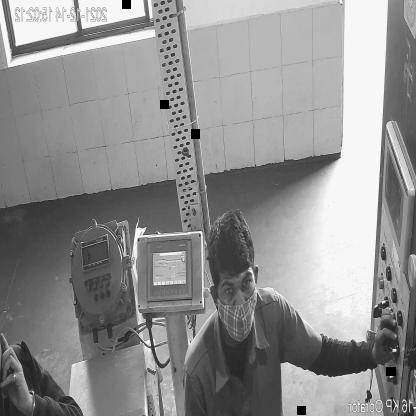no_goggles: (220, 277, 256, 304)
